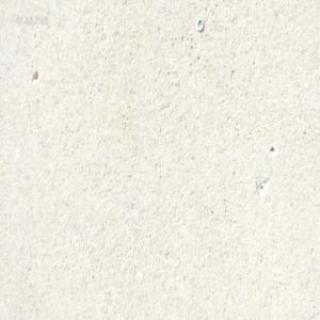Washertrack_idkeyframe: (195, 16, 203, 31)
